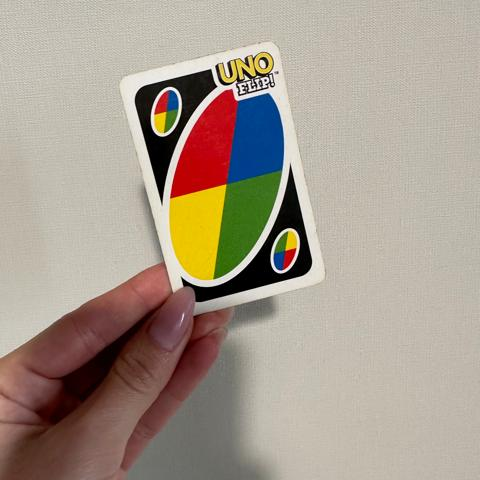lcolor-40: (134, 81, 184, 139)
